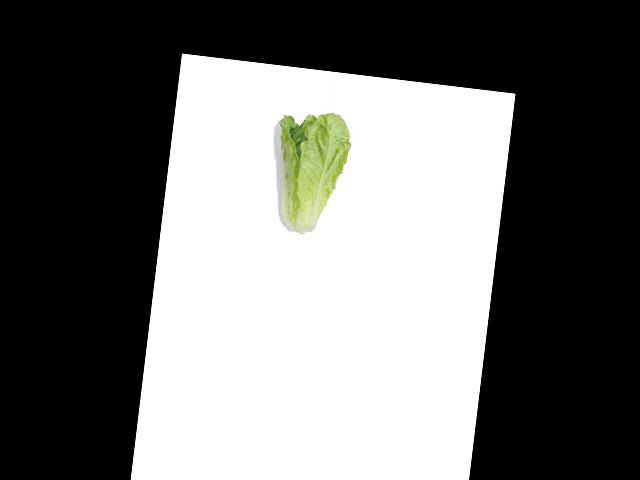lettuce: (266, 113, 353, 238)
